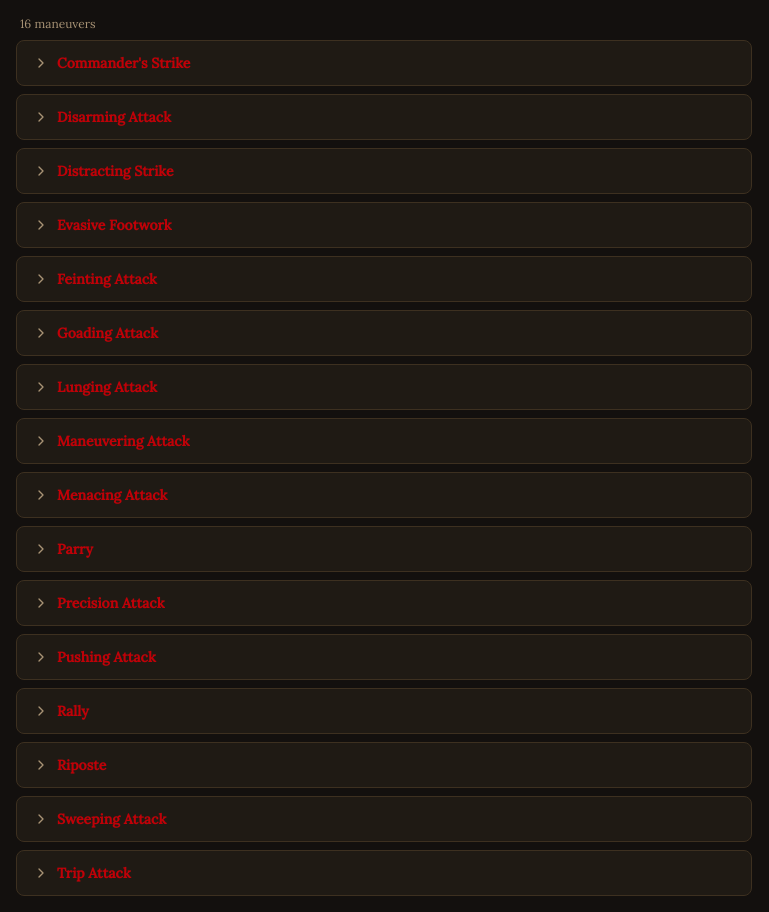
Test: ManeuversPage › expands a maneuver to show its description
Step 1. Click the button with test id "maneuver-toggle-Trip Attack" → (94, 873), box [17,851,751,895]
(page scrolled)
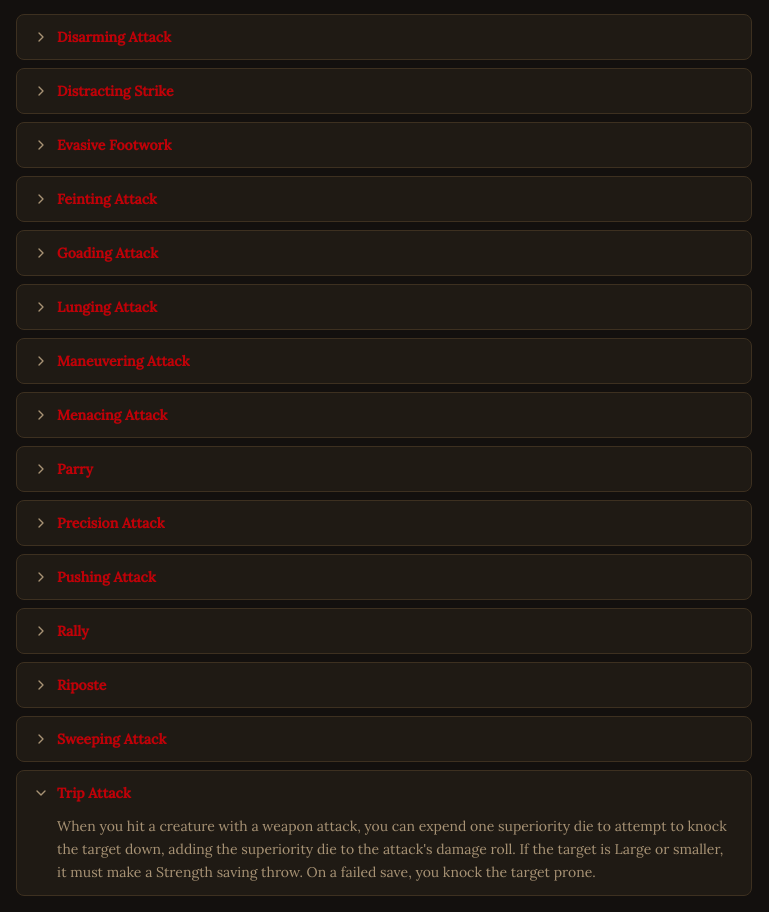
expect the text "knock the target down" is shown: met, box [57,817,727,880]
